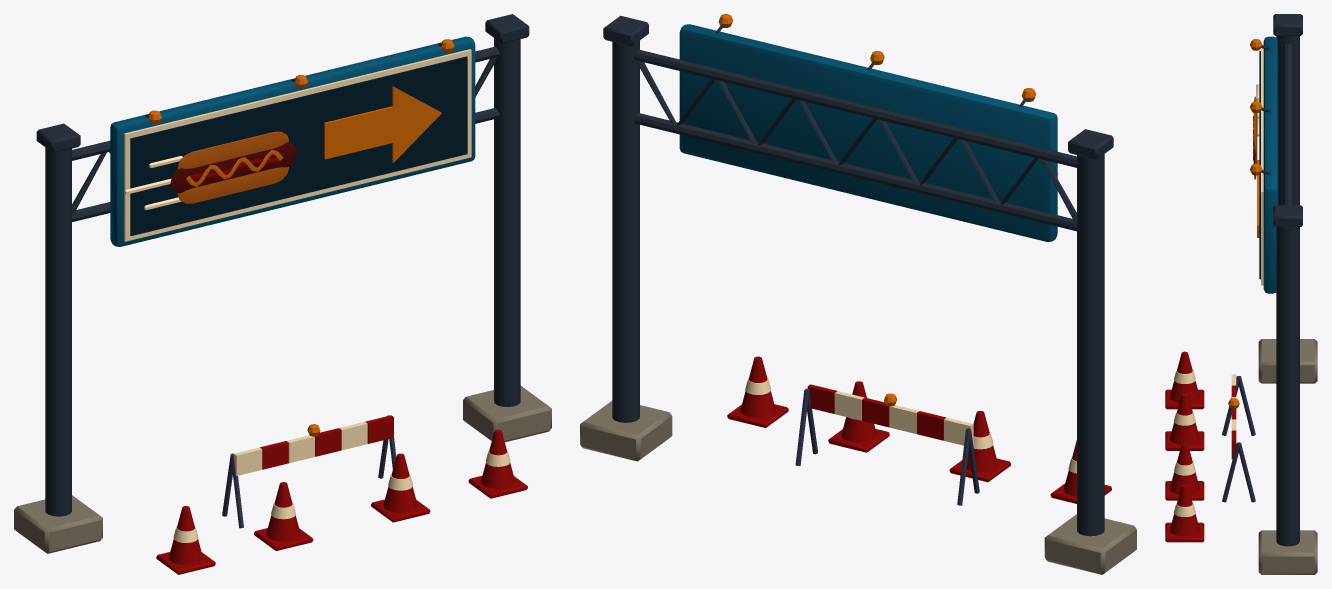
The model's file is ExpressSign.obj.
3 views of the same model, side by side, from view 1: azimuth 30°, elevation 25°; view 2: azimuth 150°, elevation 25°; view 3: azimuth 270°, elevation 25° (orthographic). The views are drawn at different scales.
Parts seen in each view (by area): view 1: ExpressSign; view 2: ExpressSign; view 3: ExpressSign.
Part boxes in pixels (bbox=[...]): ExpressSign: bbox=[14, 14, 551, 574]; ExpressSign: bbox=[580, 14, 1136, 574]; ExpressSign: bbox=[1165, 14, 1317, 574].
Bounding box in the file's own units: 10.4 × 8.24 × 3.1.
